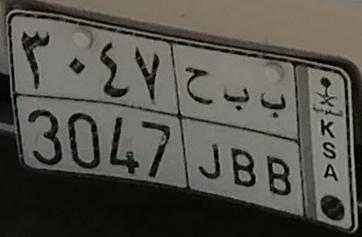0: (67, 57, 100, 171)
3: (21, 28, 63, 165)
4: (101, 35, 135, 175)
7: (135, 47, 170, 179)
B: (224, 84, 258, 187), (261, 91, 292, 197)
J: (185, 67, 222, 183)
